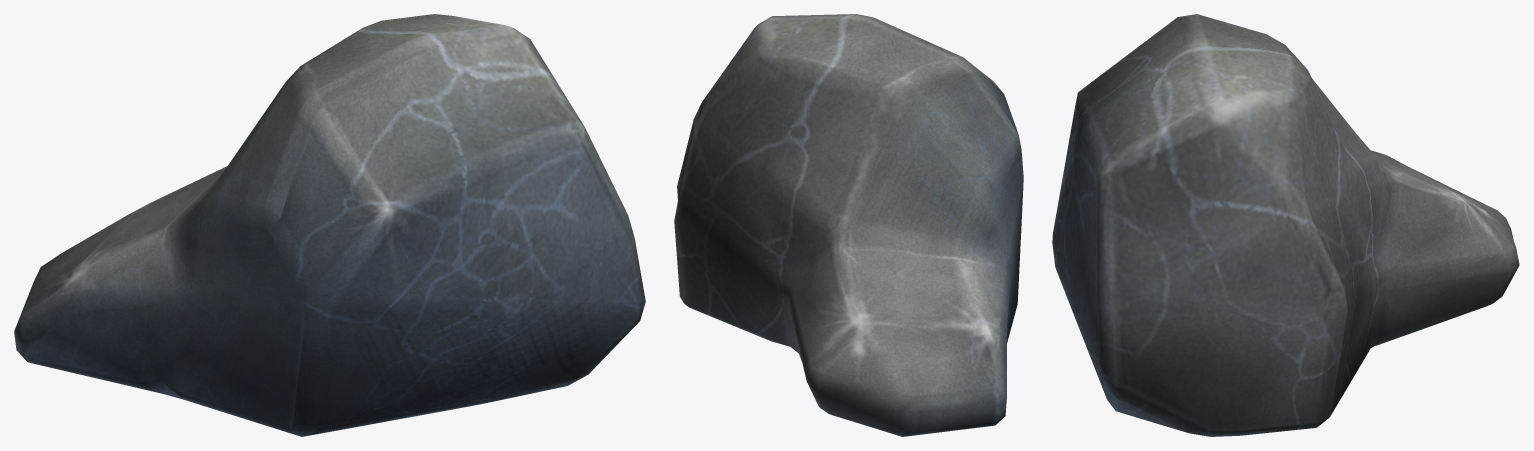
The model's file is Track_rock_02.fbx.
3 views of the same model, side by side, from view 1: azimuth 30°, elevation 25°; view 2: azimuth 150°, elevation 25°; view 3: azimuth 270°, elevation 25° (orthographic). The views are drawn at different scales.
Visible parts, largest first — view 1: Track_rock_02; view 2: Track_rock_02; view 3: Track_rock_02.
Part boxes in pixels (<box>): Track_rock_02: <box>14,14,645,436</box>; Track_rock_02: <box>674,14,1023,436</box>; Track_rock_02: <box>1052,14,1519,436</box>.
Bounding box in the file's own units: 48.64 × 33.65 × 44.52.
